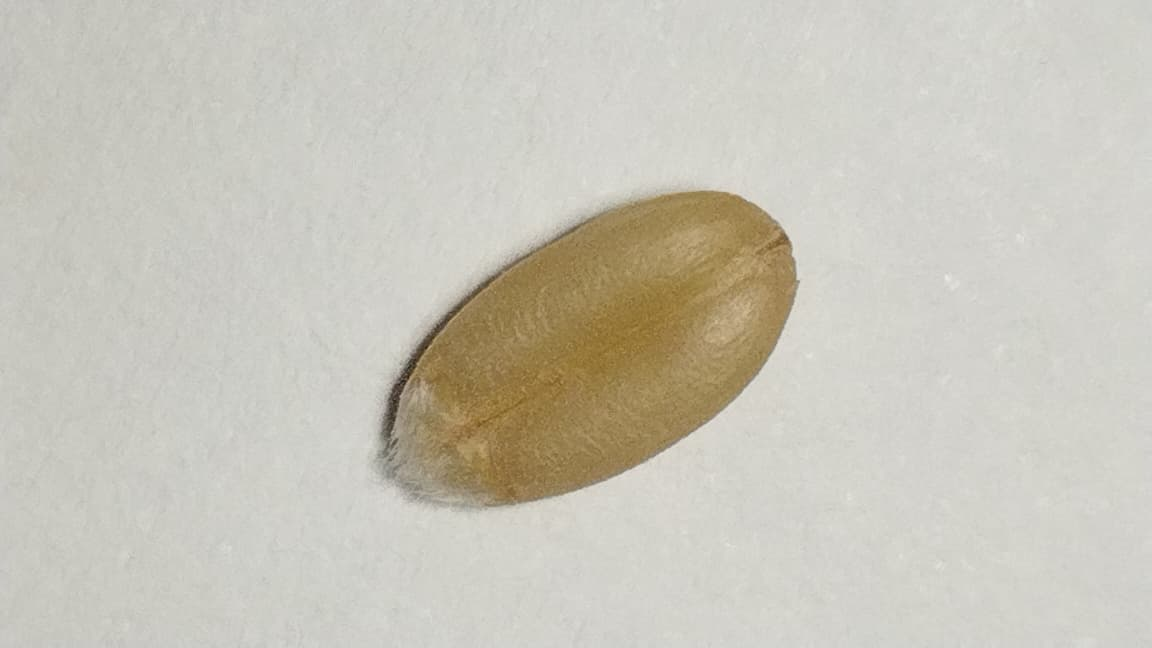healthy: (385, 191, 796, 504)
